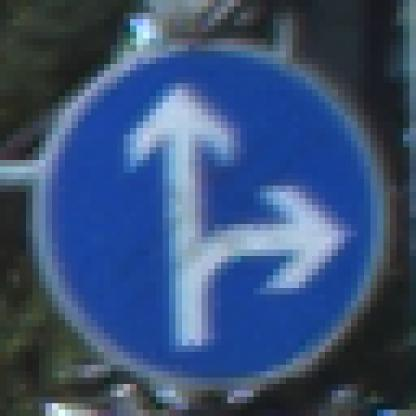Straight or Right: (34, 39, 385, 385)
